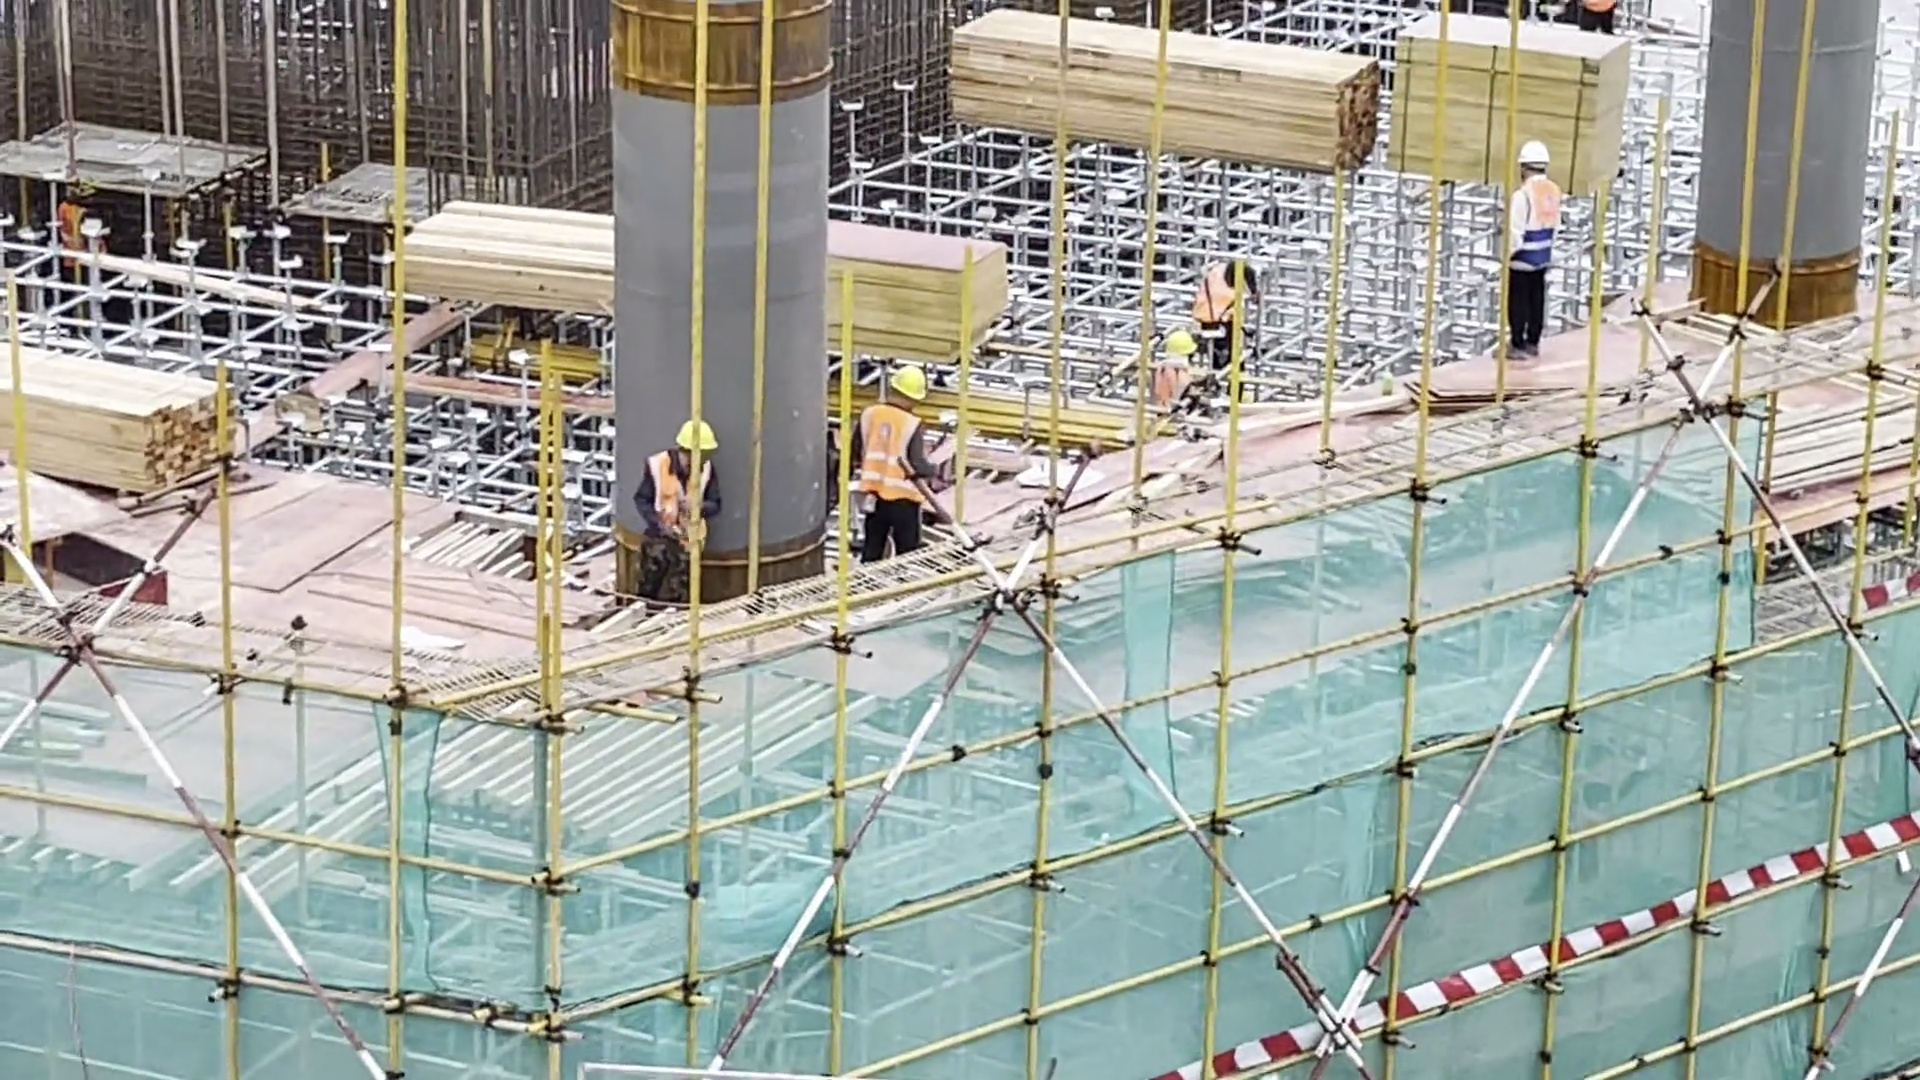helmet: (662, 414, 727, 465), (881, 350, 932, 410), (1516, 131, 1557, 184), (1147, 323, 1203, 363)
person: (845, 357, 943, 571), (638, 410, 719, 603), (1512, 149, 1575, 362), (1197, 250, 1256, 324)
vest: (862, 411, 928, 501), (652, 456, 713, 542), (1515, 191, 1562, 256), (1197, 267, 1254, 314), (52, 198, 92, 251), (1156, 358, 1192, 393)
wood: (946, 6, 1372, 167), (1, 349, 246, 482)
